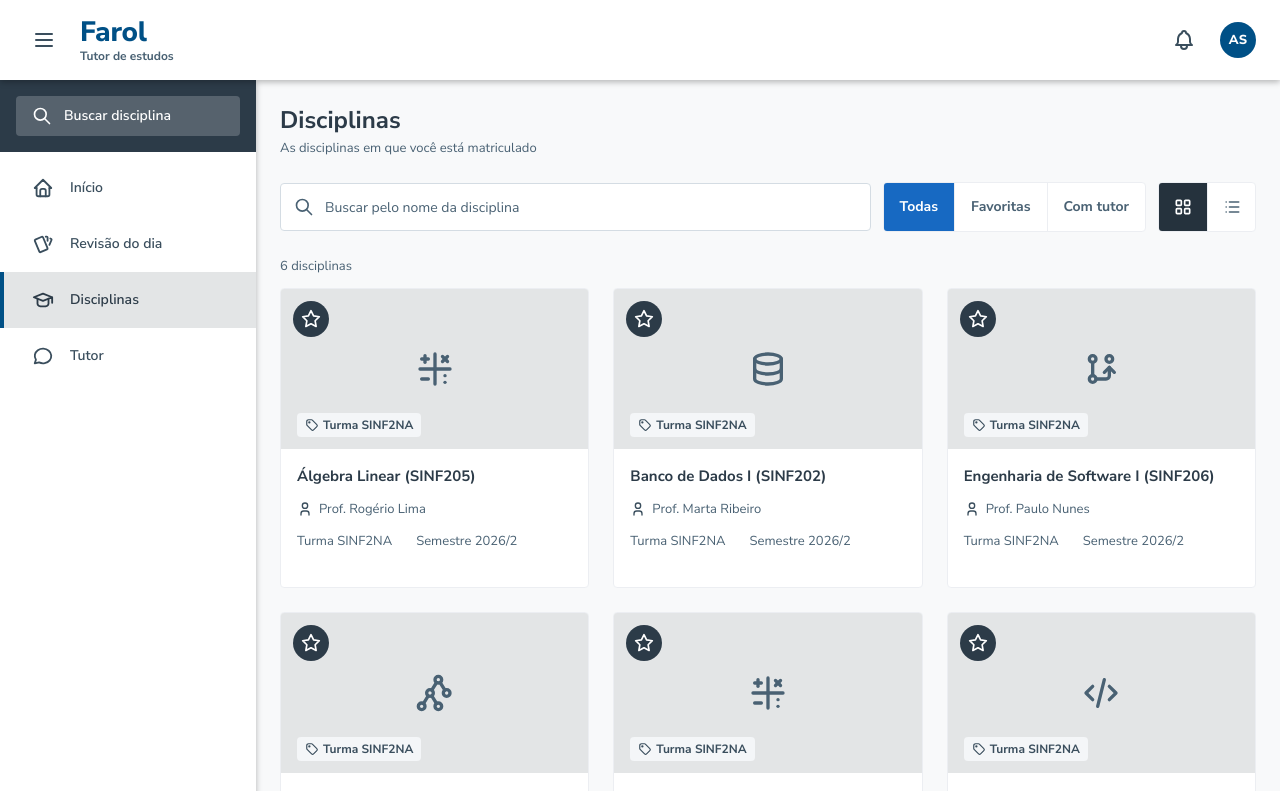
Test: tela de disciplinas (ACE-T33) › alterna entre grade e lista, e o botão ativo avisa o leitor de tela
The width and height of the screenshot is (1280, 791).
Click the button named "Ver em lista": (1231, 207) top-left (1207, 183), bottom-right (1255, 231)
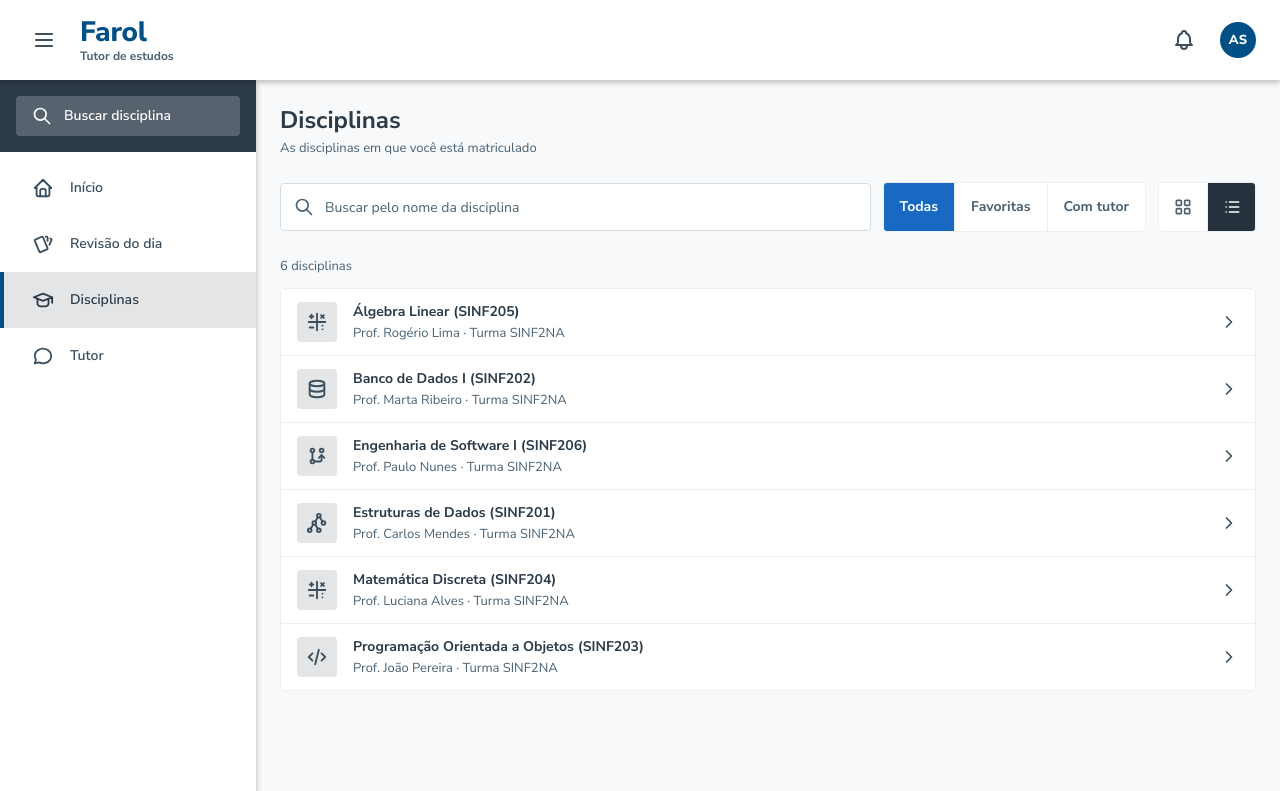
Expected: the list named "Disciplinas" has attribute data-visao="lista", top-left (280, 288), bottom-right (1256, 691)
Expected: the button named "Ver em grade" is not pressed, top-left (1159, 183), bottom-right (1207, 231)
Expected: the button named "Ver em lista" is pressed, top-left (1207, 183), bottom-right (1255, 231)
